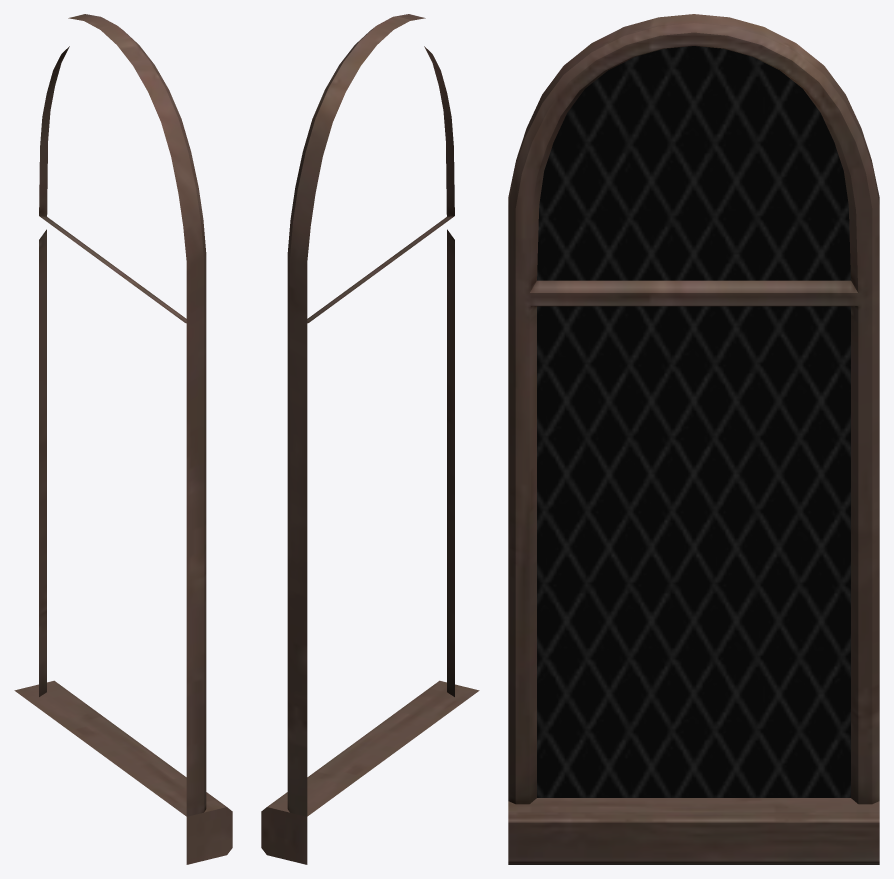
3 renders of one model, left to right at view 1: azimuth 30°, elevation 25°; view 2: azimuth 150°, elevation 25°; view 3: azimuth 270°, elevation 25°, orthographic. The views are drawn at different scales.
Visible parts, largest first — view 1: body0_model0_lod0_mesh1; view 2: body0_model0_lod0_mesh1; view 3: body0_model0_lod0_mesh0, body0_model0_lod0_mesh1.
Boxes of the visible parts, <box> form: body0_model0_lod0_mesh1: <box>14,14,232,864</box>; body0_model0_lod0_mesh1: <box>261,14,479,864</box>; body0_model0_lod0_mesh0: <box>537,46,850,797</box>; body0_model0_lod0_mesh1: <box>508,14,879,864</box>.
Size of the model in its own units: 8 by 128 by 52.
Materials: 2 (2 with a texture image).
